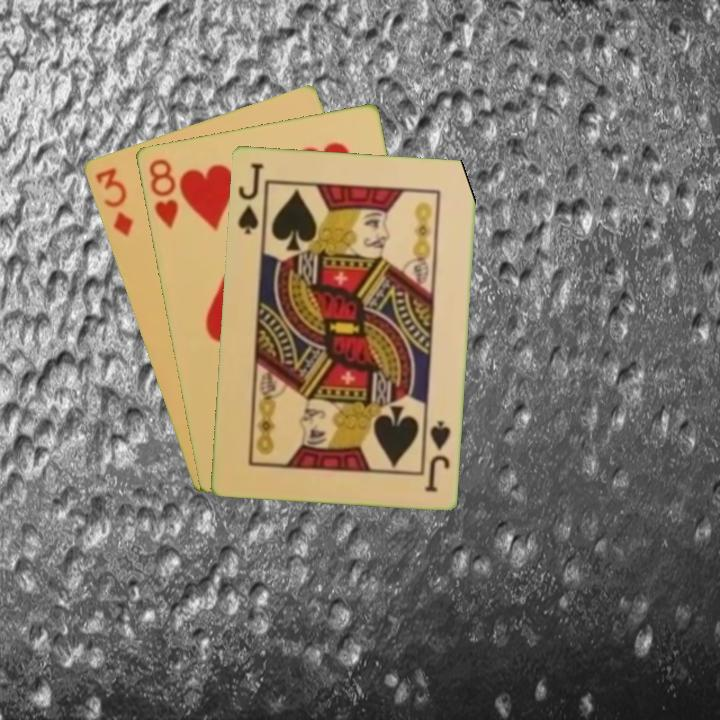3d: (91, 164, 136, 240)
8h: (144, 155, 181, 231)
Js: (420, 415, 453, 495), (234, 159, 266, 237)
